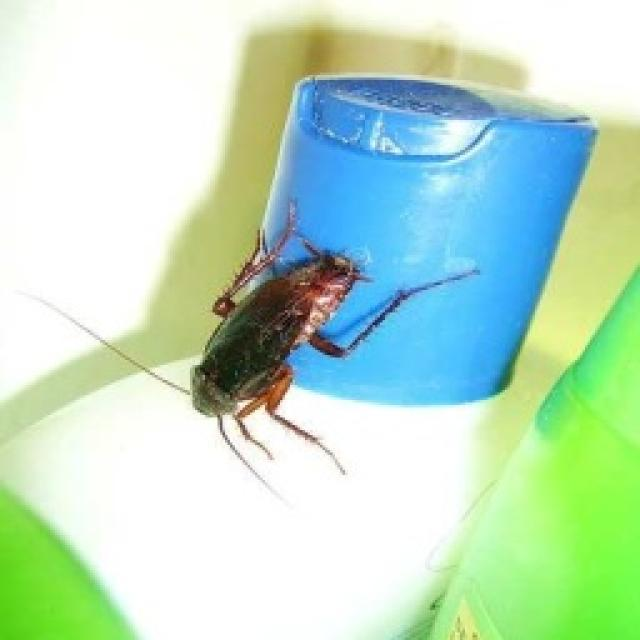cockroach: (168, 220, 385, 482)
